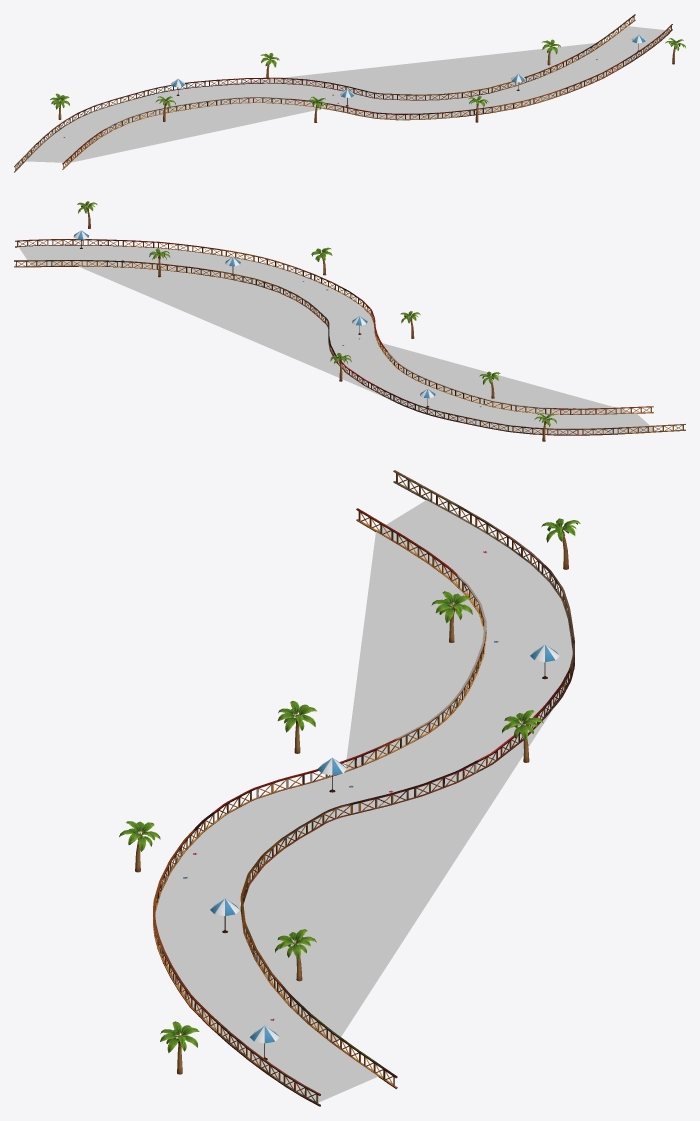
Rendered from level1 path.fbx.
3 renders of one model, top to bottom at view 1: azimuth 30°, elevation 25°; view 2: azimuth 150°, elevation 25°; view 3: azimuth 270°, elevation 25°, orthographic. The views are drawn at different scales.
Parts seen in each view (by area): view 1: Line002, Kit_Fence_002; view 2: Line002, Kit_Fence_002; view 3: Line002, Kit_Fence_002.
Part boxes in pixels (box(x1,y1,x2,y2)): Line002: box(25, 26, 669, 162); Kit_Fence_002: box(14, 14, 672, 172); Line002: box(19, 245, 655, 434); Kit_Fence_002: box(14, 239, 685, 435); Line002: box(155, 500, 572, 1102); Kit_Fence_002: box(153, 470, 574, 1106).
Size of the model in its own units: 9058 by 332 by 2835.
